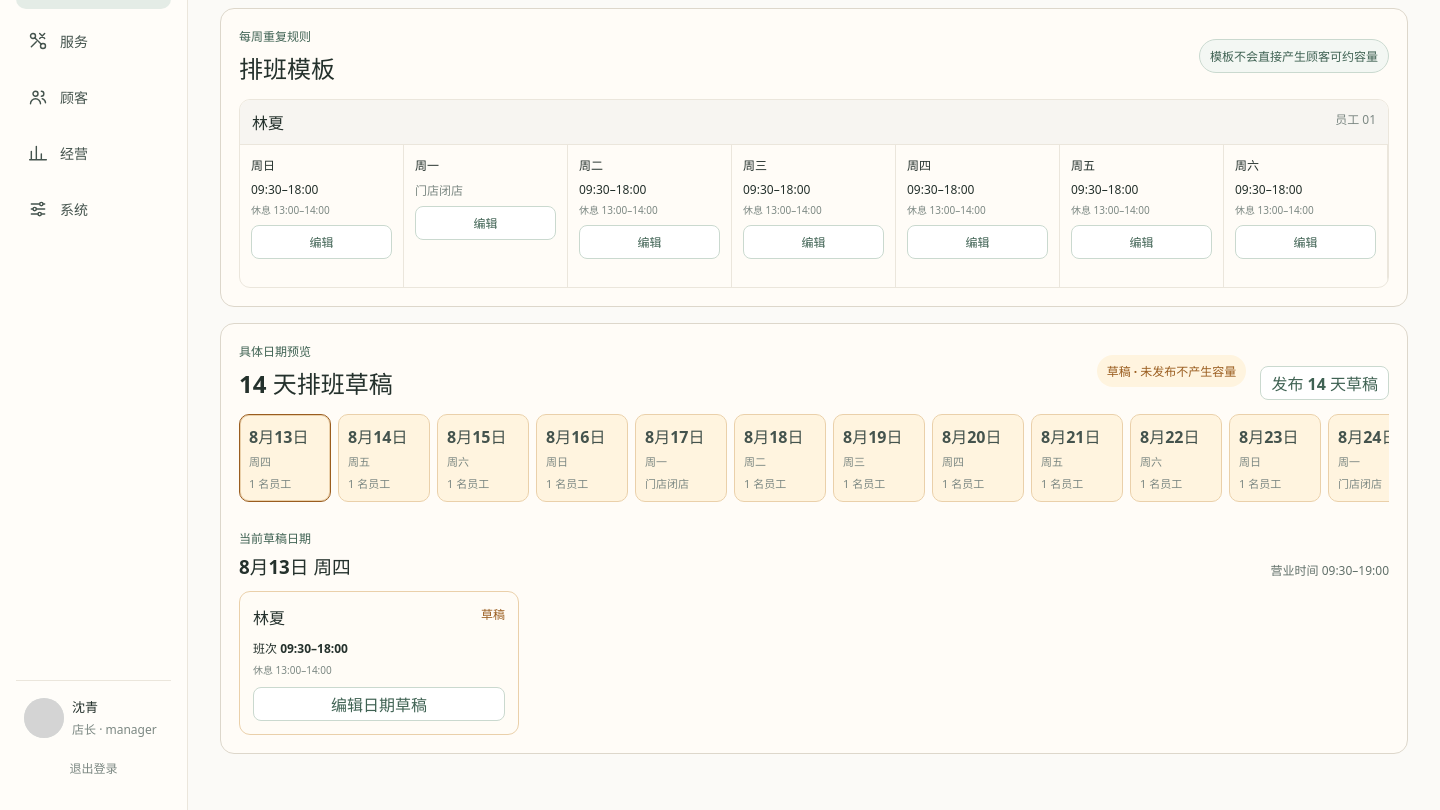
Scenario: MG-08 排班模板与十四天草稿页面 › 可为单个员工修改具体日期草稿并记录日期例外
The image size is (1440, 810).
(page scrolled)
Click the button with aria-label "编辑林夏8月13日草稿". click: (379,704)
box: x1=253 y1=687 x2=505 y2=721
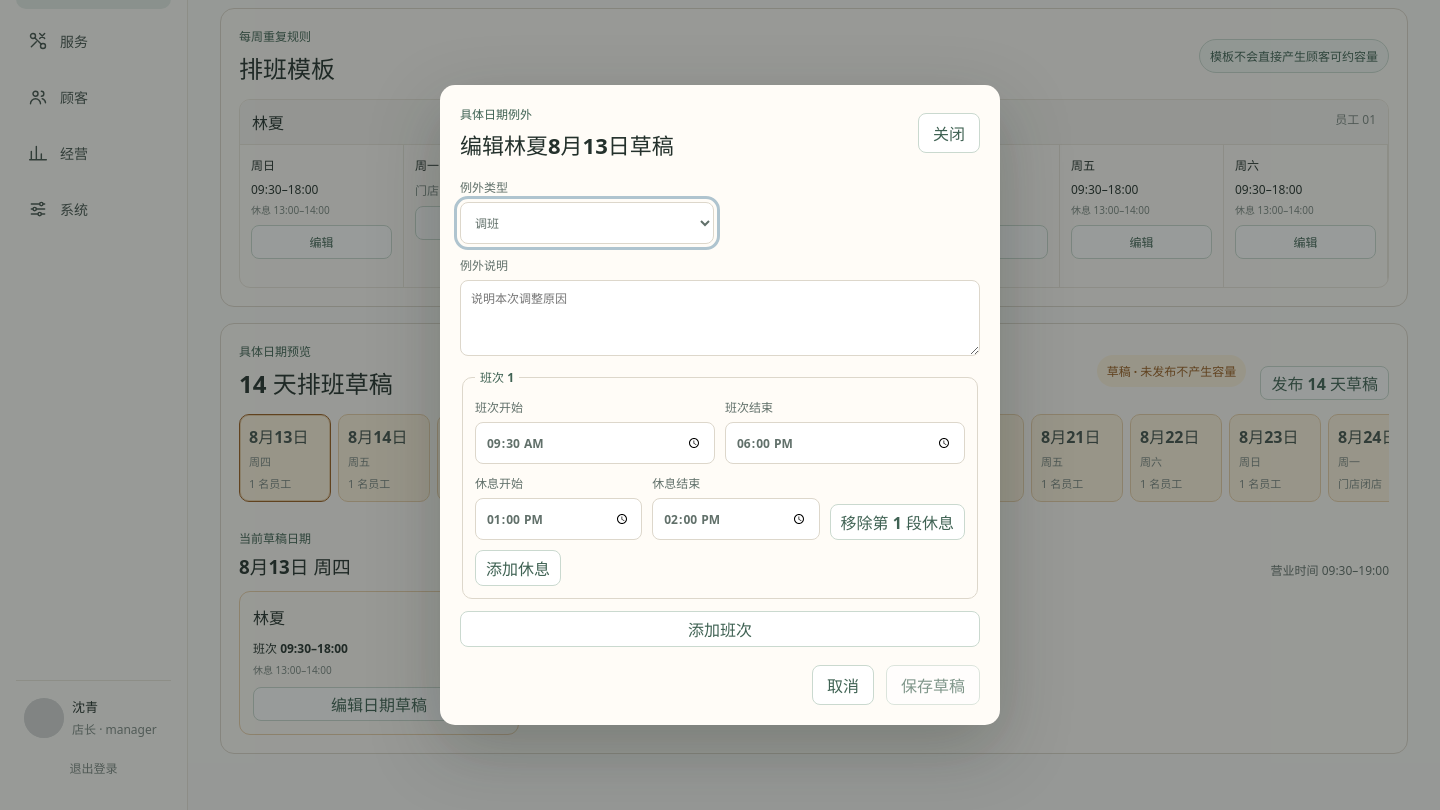
Select "临时休息" in the dropdown labelled "例外类型". click: (587,223)
box: x1=460 y1=202 x2=714 y2=244
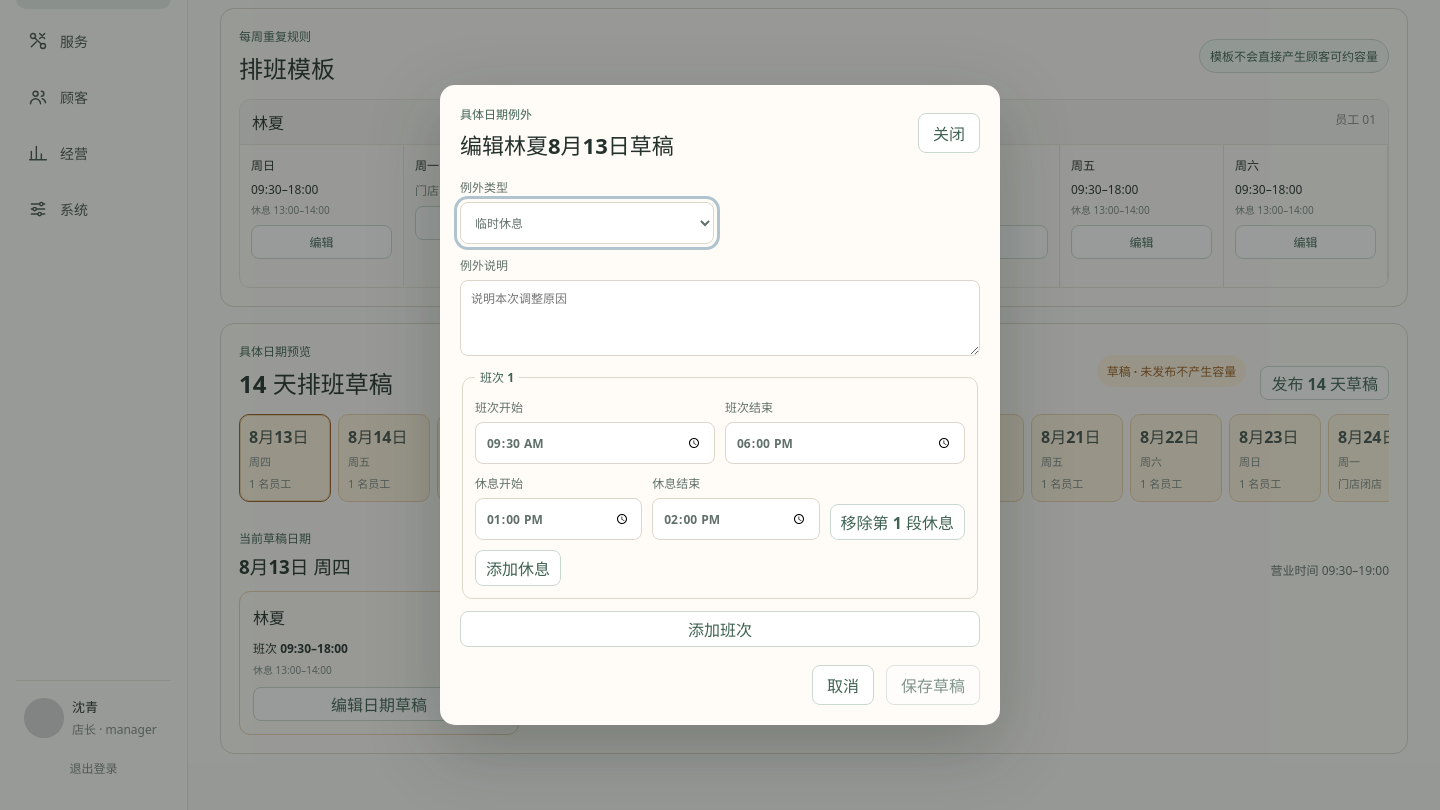
Type "午间培训，延长休息" into the text box labelled "例外说明". click: (720,318)
box: x1=460 y1=280 x2=980 y2=356
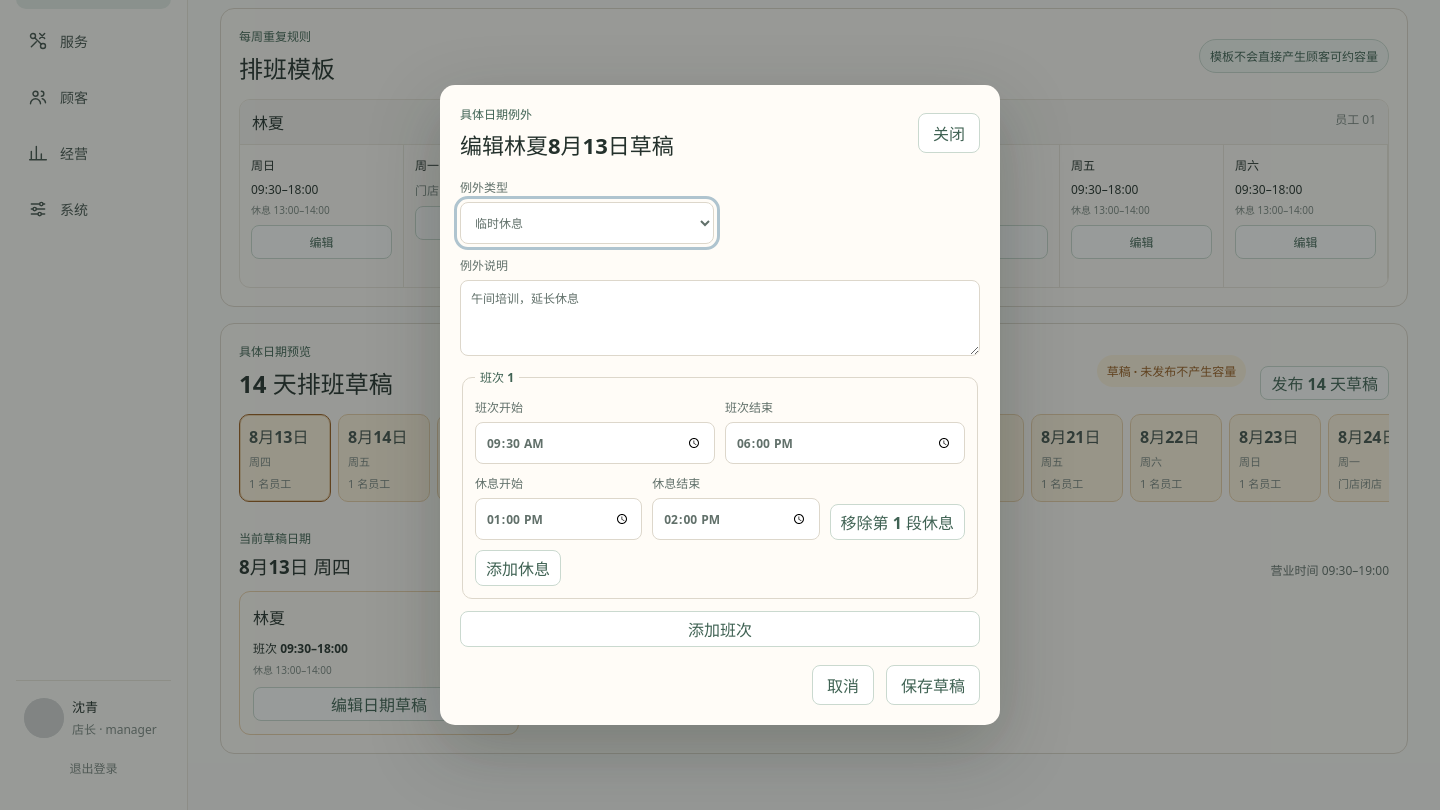
Replace the text in the time field labelled "休息结束" with "14:30". click: (736,519)
box: x1=652 y1=498 x2=820 y2=540
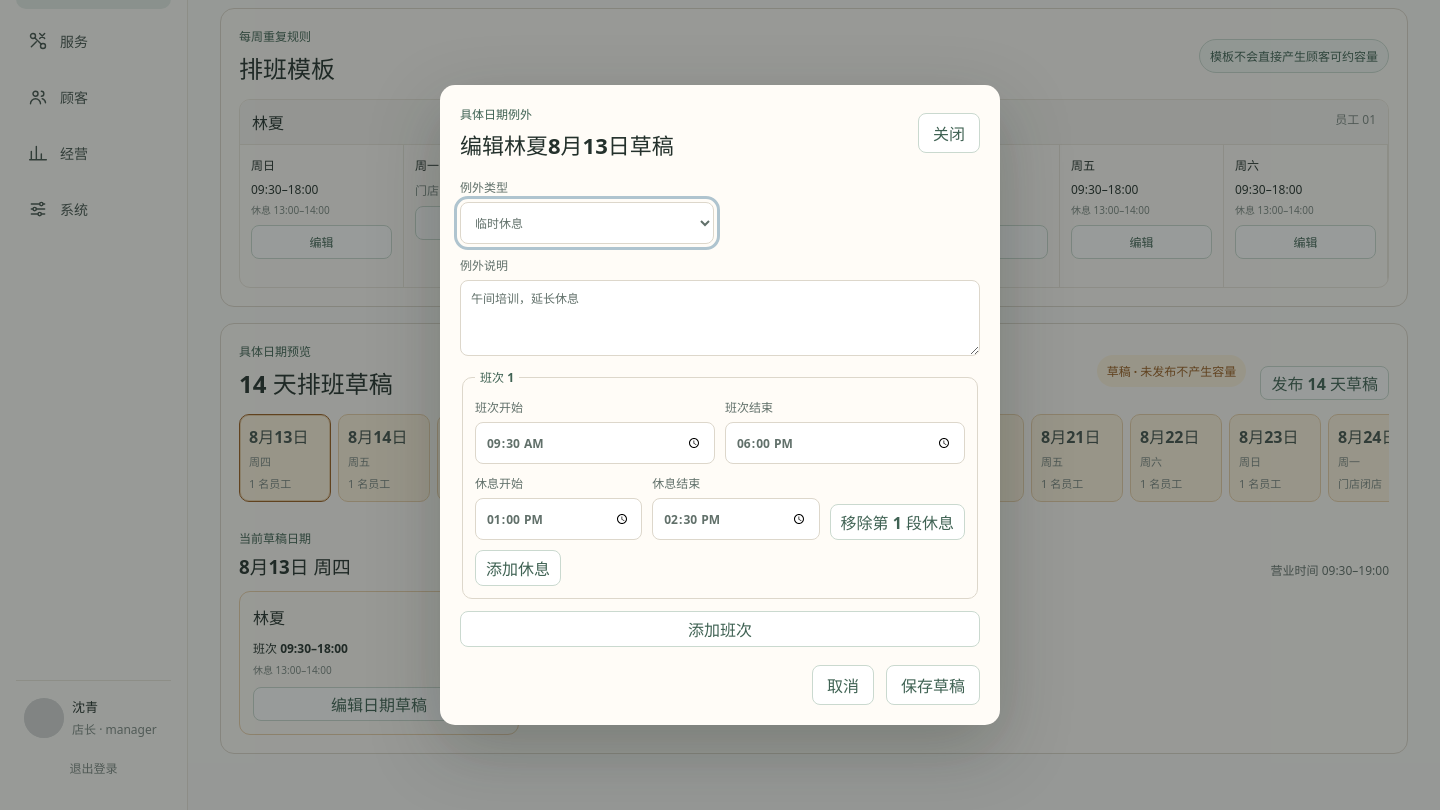
Click the button "保存草稿". click: (933,685)
box: x1=886 y1=665 x2=980 y2=705
(page scrolled)
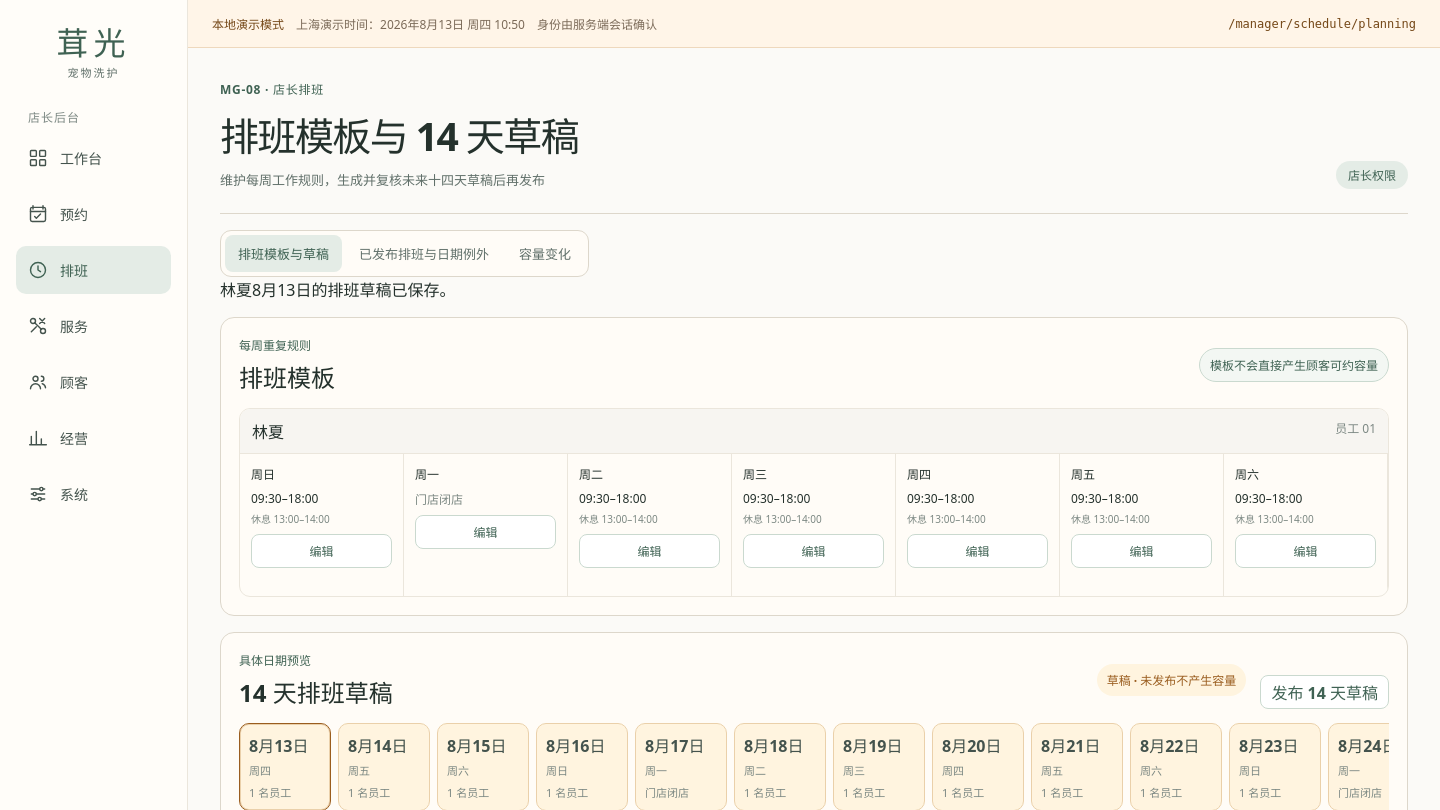
Check: the text "林夏8月13日的排班草稿已保存。" is shown, box x1=220 y1=279 x2=456 y2=301
